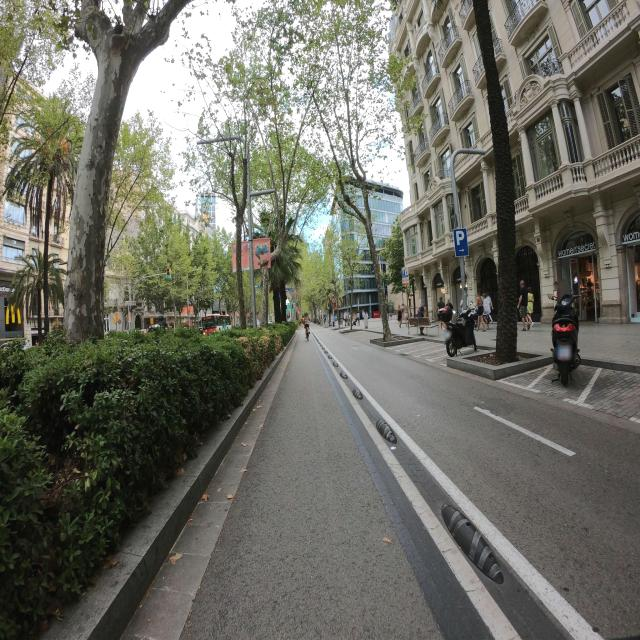bike: (550, 295, 581, 387), (445, 303, 477, 356)
car: (202, 316, 230, 334)
